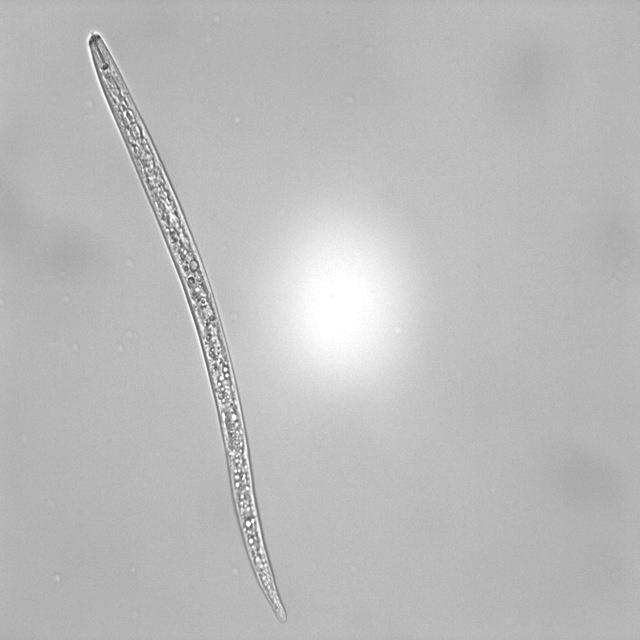Radopholus: (85, 28, 294, 628)
